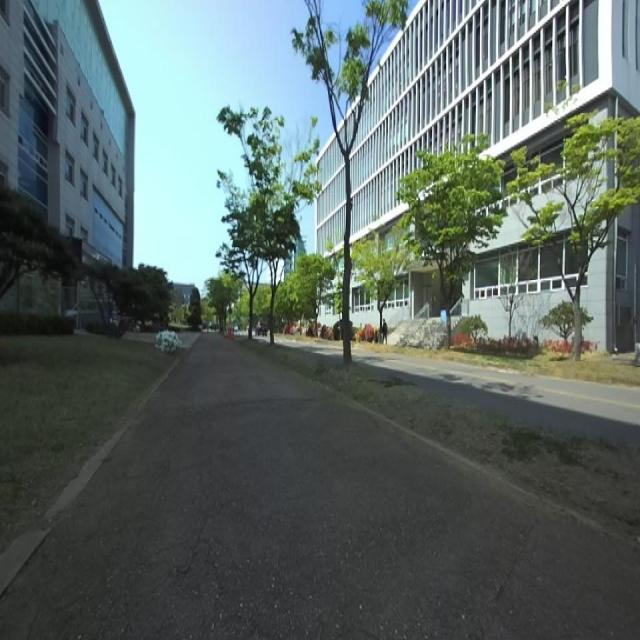sidewalk: (0, 335, 640, 639)
